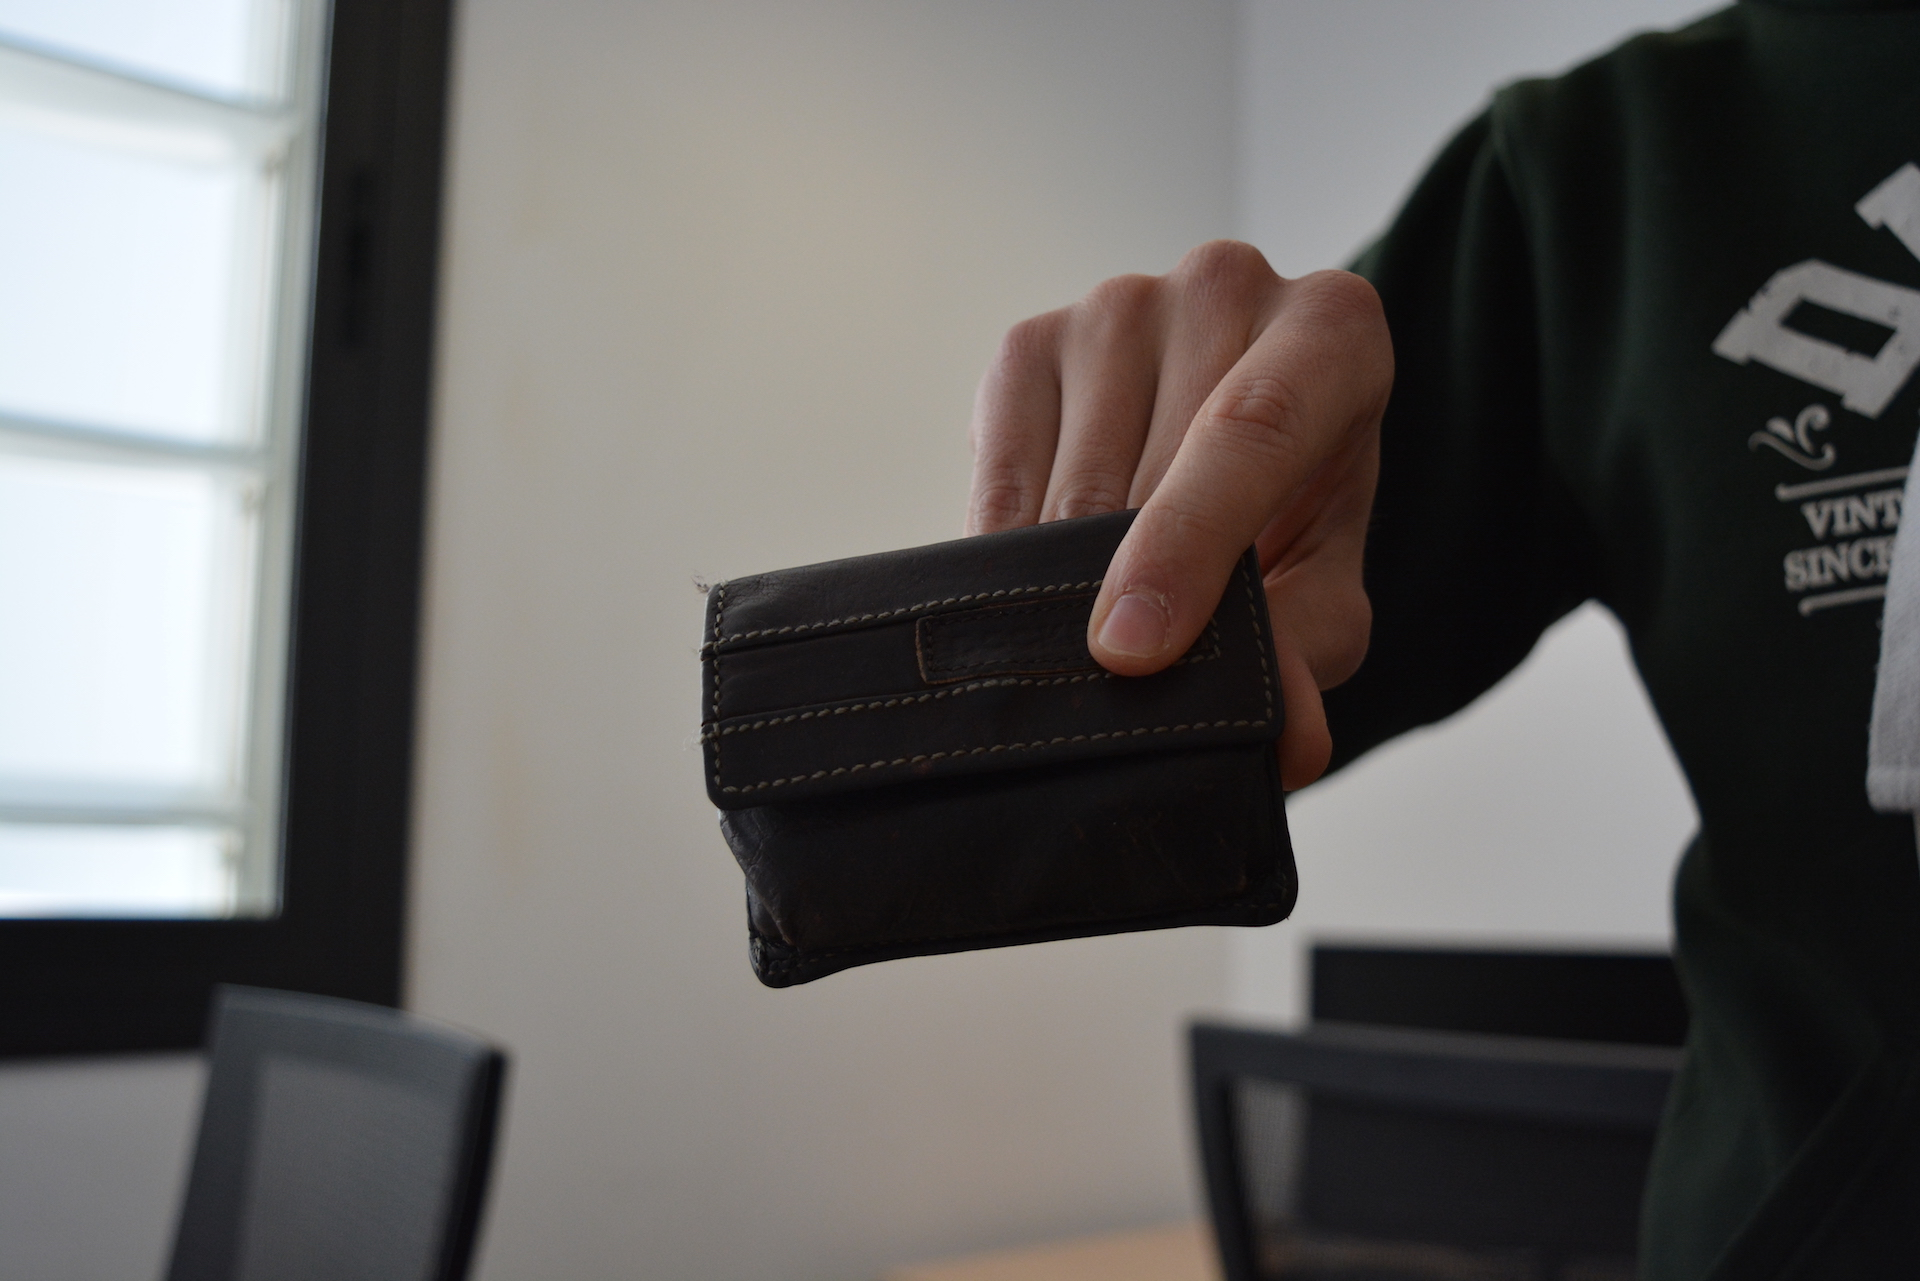monedero: (698, 499, 1305, 992)
